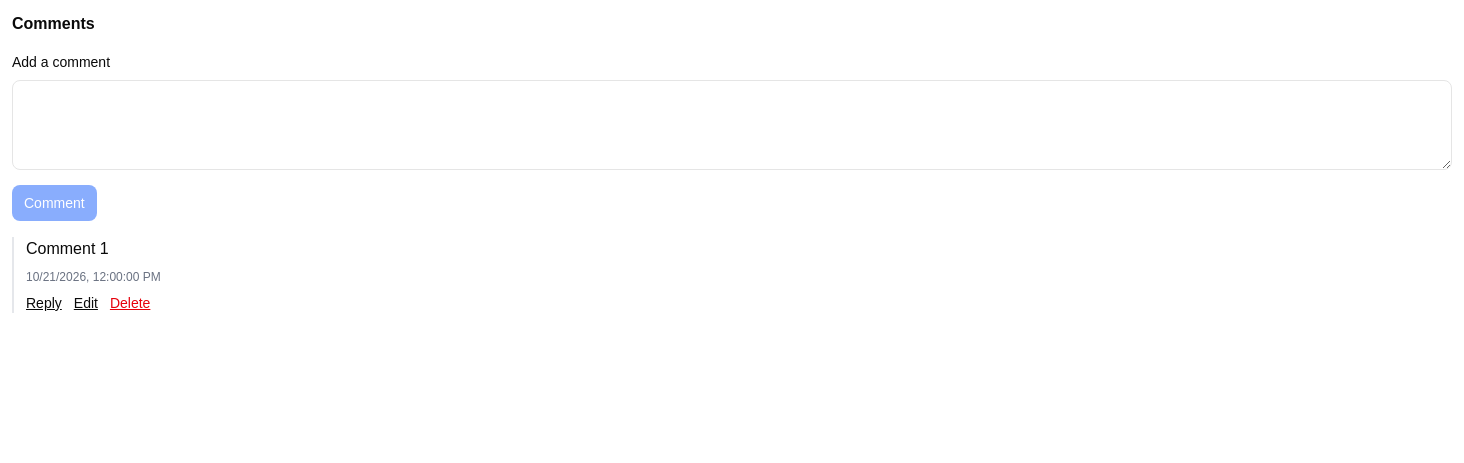
Scenario: Comments management › creates a nested reply linked to its parent
This screenshot has width=1464, height=463.
expect the text "Add a comment" is shown: met, box x1=12 y1=54 x2=110 y2=70
// Open the reply editor for the parent comment.
Click the button "Reply".
click(44, 303)  # box x1=26 y1=293 x2=62 y2=313
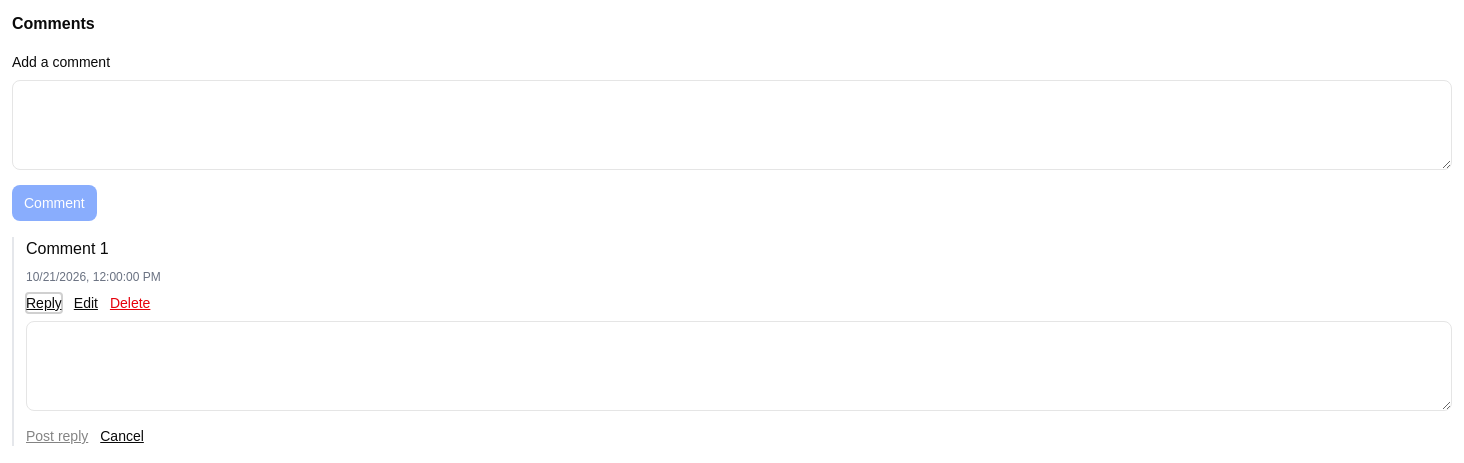
Type "New nested reply" into the text box named "Write a reply".
click(739, 366); type("New nested reply")  # box x1=26 y1=321 x2=1452 y2=411
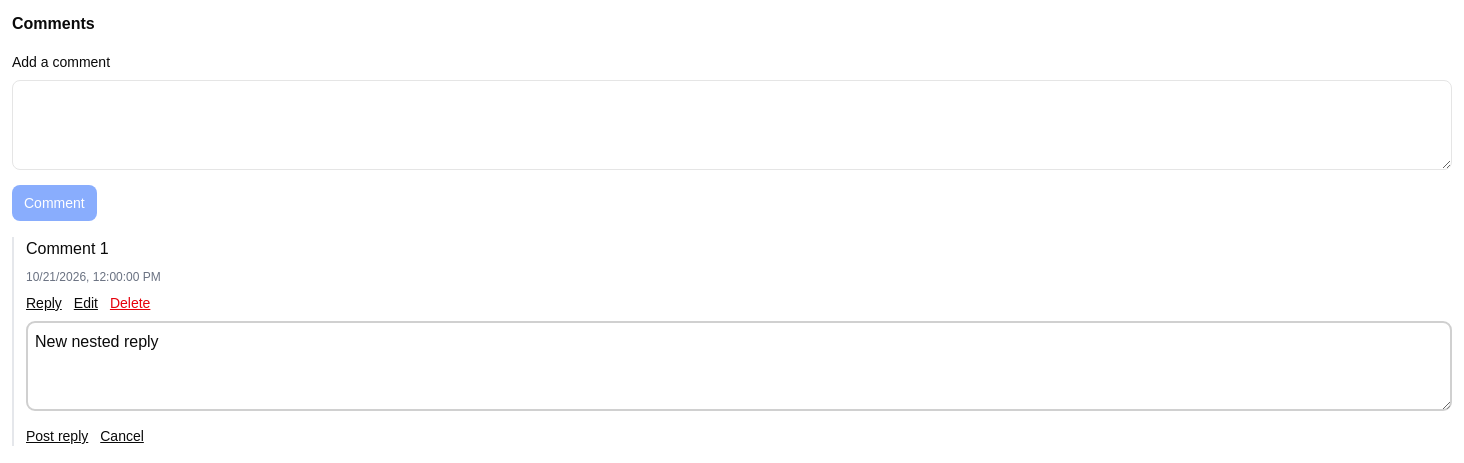
Click the button "Post reply".
click(57, 436)  # box x1=26 y1=426 x2=88 y2=446
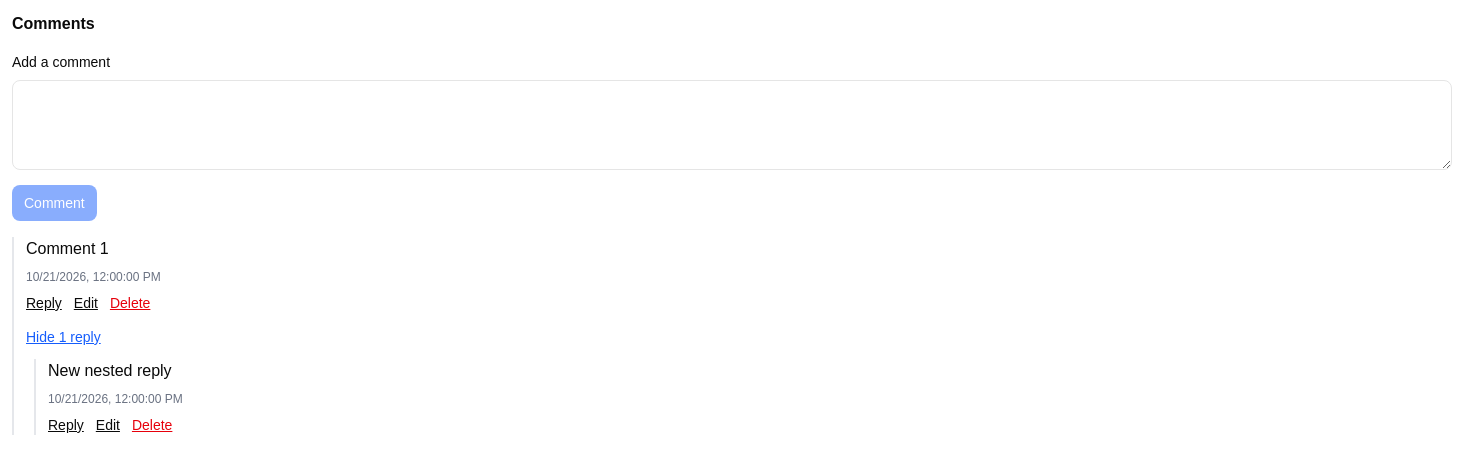
expect the text "New nested reply" is shown: met, box x1=48 y1=362 x2=172 y2=379
